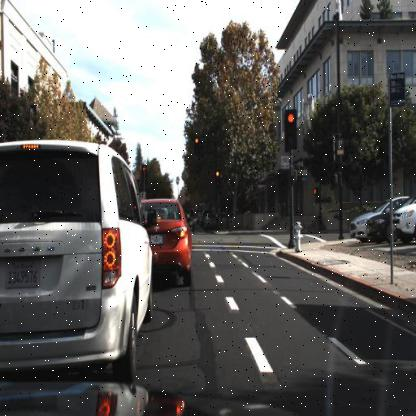car: (0, 136, 154, 384), (151, 196, 191, 289), (392, 194, 416, 242), (367, 210, 394, 243), (199, 208, 222, 234), (348, 214, 367, 242), (203, 212, 219, 231)
trafficLight-Red: (285, 107, 297, 151), (192, 134, 202, 160), (213, 168, 220, 192), (194, 136, 200, 155)
trafficLight-RedLeft: (140, 163, 148, 192), (140, 162, 148, 179)
